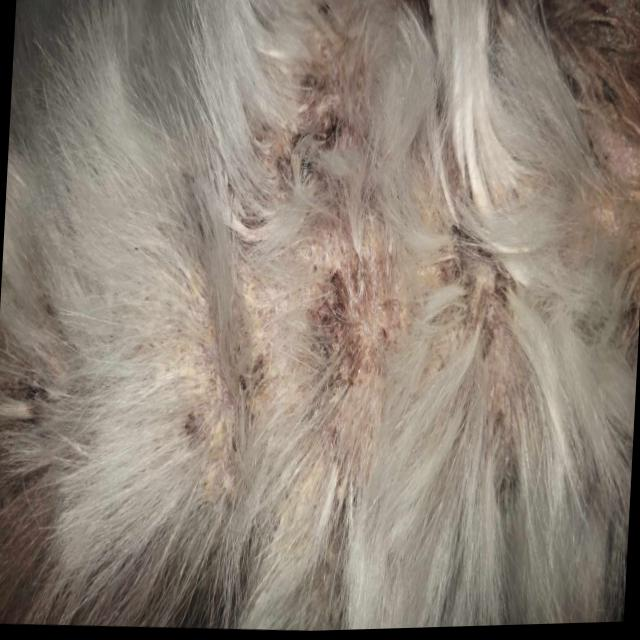demodicosis: (277, 204, 413, 471), (258, 22, 366, 189), (177, 320, 272, 499), (429, 204, 522, 377)
